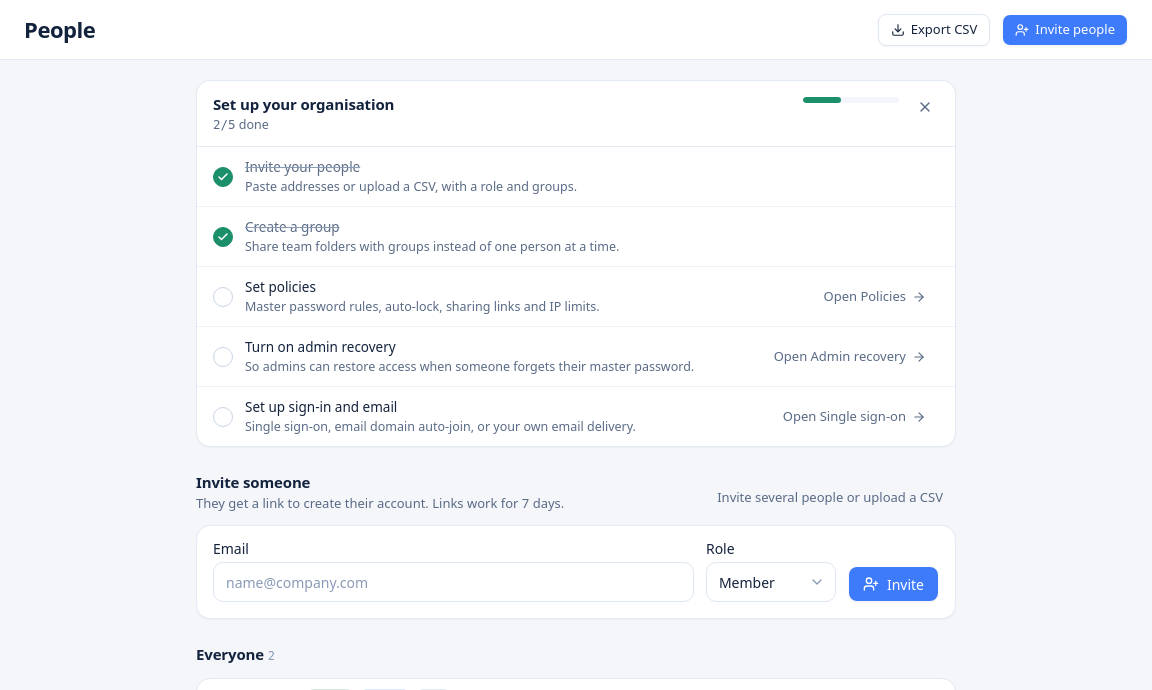
Test: Onboarding checklist › shows what's left from the server's state, links each step, and can be dismissed
Expected: the element "Set up your organisation" shows "2/5 done", [196,80,956,447]
Click the button named "Dismiss checklist": (925, 107) [911,93,939,121]
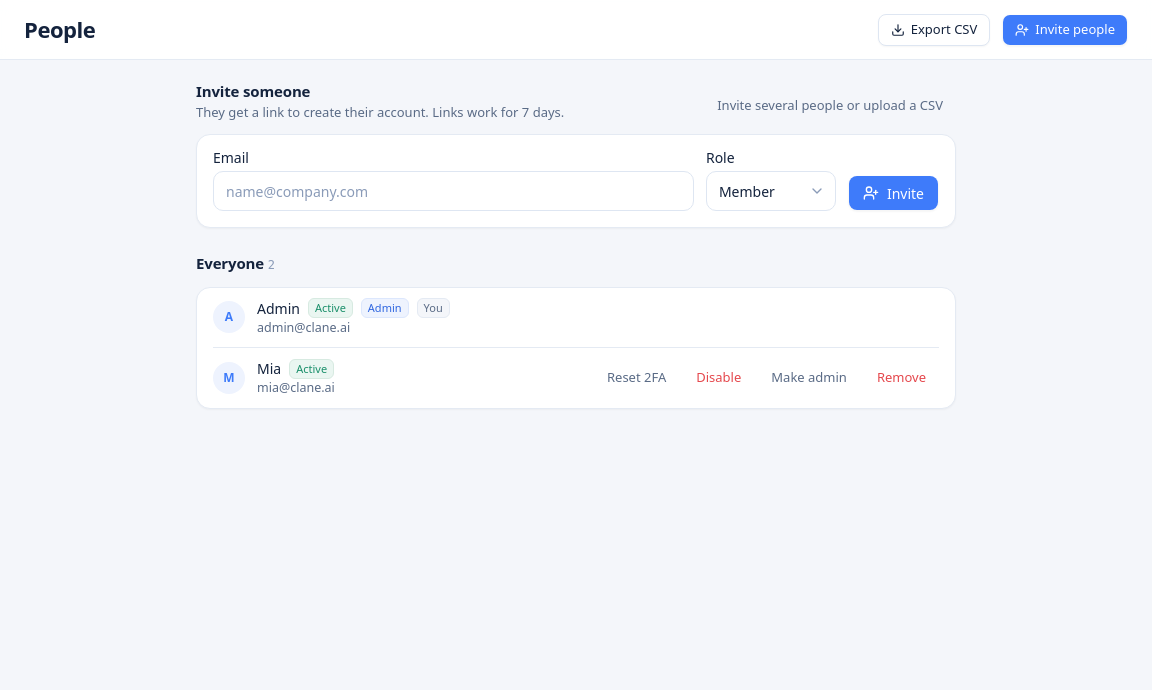
Now the heading "Set up your organisation" is gone
